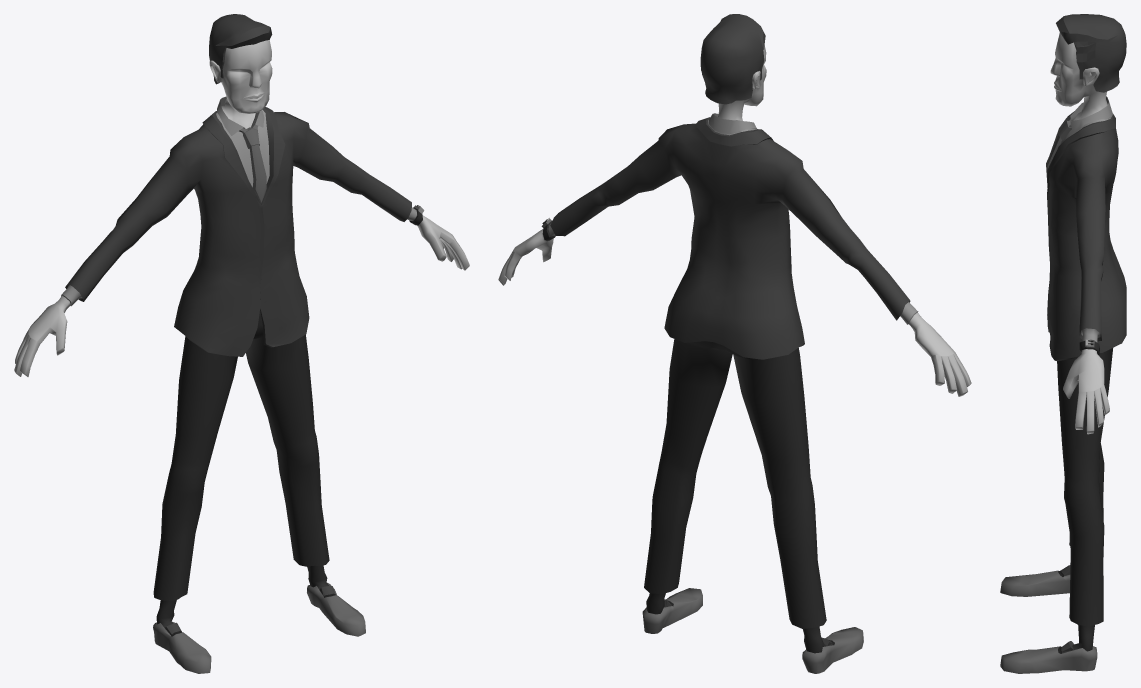
Rendered from npc_male_A.FBX.
3 views of the same model, side by side, from view 1: azimuth 30°, elevation 25°; view 2: azimuth 150°, elevation 25°; view 3: azimuth 270°, elevation 25° (orthographic). The views are drawn at different scales.
Parts seen in each view (by area): view 1: npc_male_A; view 2: npc_male_A; view 3: npc_male_A.
Part boxes in pixels (x1=…): npc_male_A: x1=14, y1=14, x2=469, y2=673; npc_male_A: x1=498, y1=14, x2=971, y2=673; npc_male_A: x1=1000, y1=14, x2=1126, y2=673.
Bounding box in the file's own units: 64.95 × 83.27 × 15.58.
